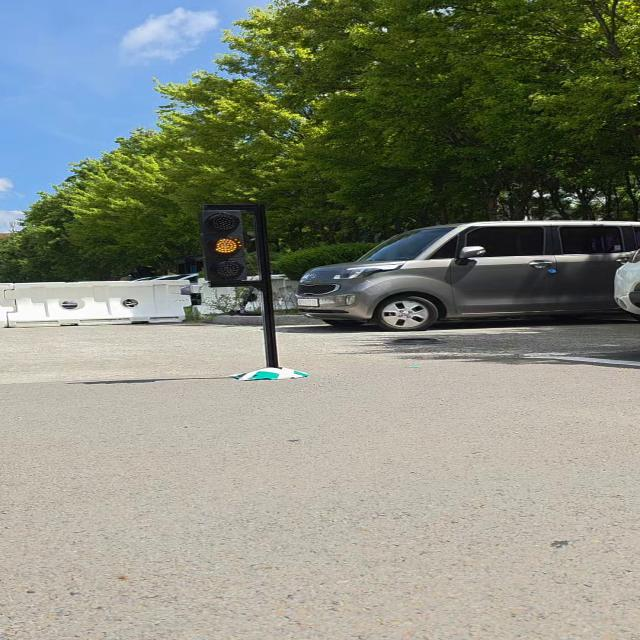yellow: (197, 210, 249, 282)
